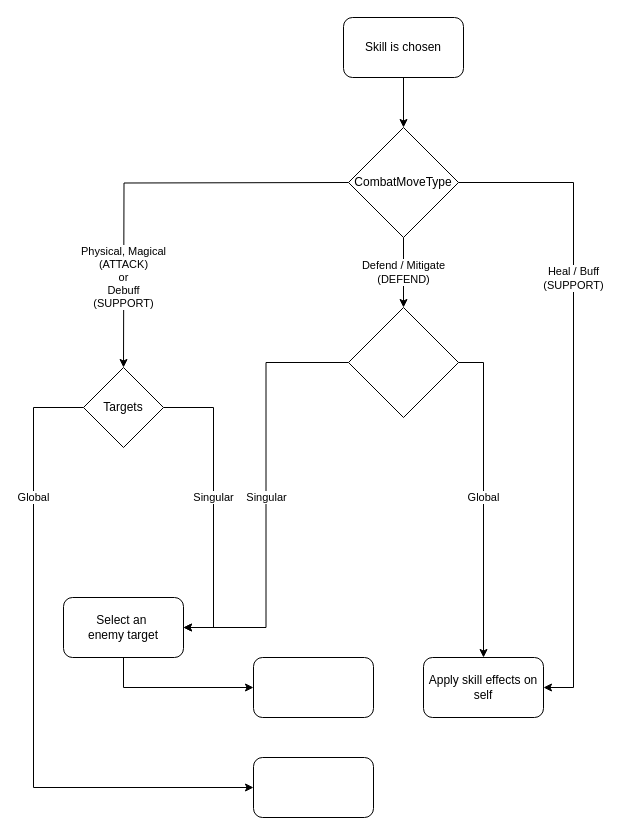
Image size: 620x835. Some labels were removed from this diagram. Here are the shapes that lost their labels. From the top down, the centre of each, then its label:
At (x=403, y=362): "Skill defends against:".
At (x=313, y=687): "Use skill on target".
At (x=313, y=787): "Use skill on all targets".
